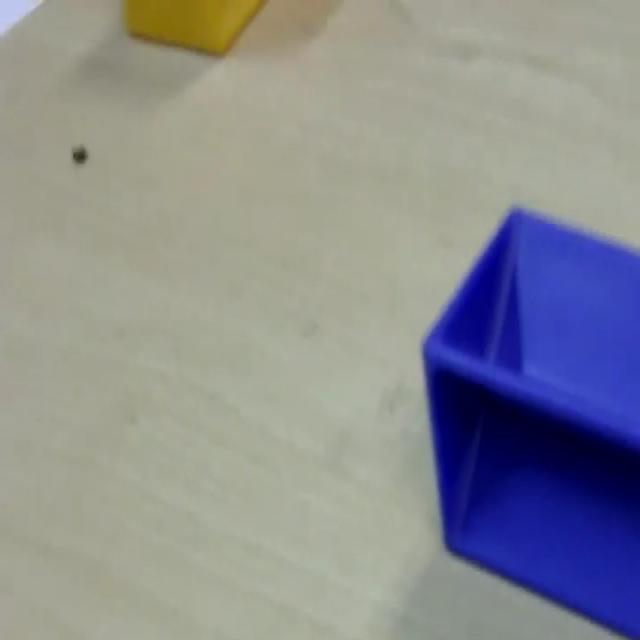blue_block: (420, 201, 639, 635)
yellow_block: (122, 0, 266, 56)
